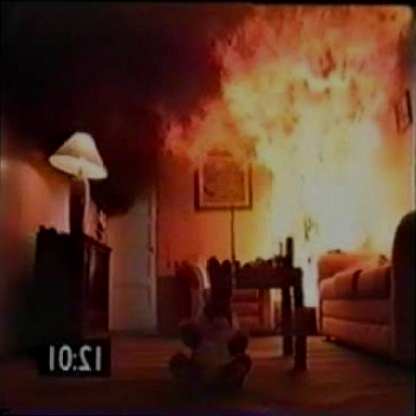fire: (170, 5, 413, 320)
